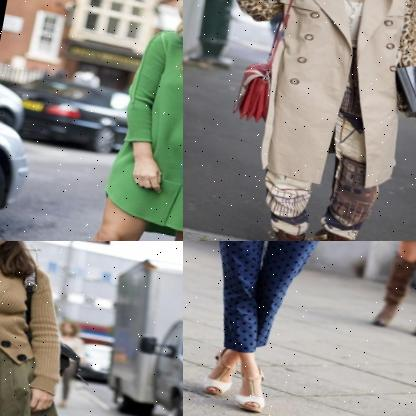dress: (98, 19, 183, 241)
jacket: (200, 0, 416, 200)
pants: (253, 39, 405, 241), (187, 241, 334, 362)
polar: (0, 241, 84, 403)
skirt: (0, 312, 104, 416)
